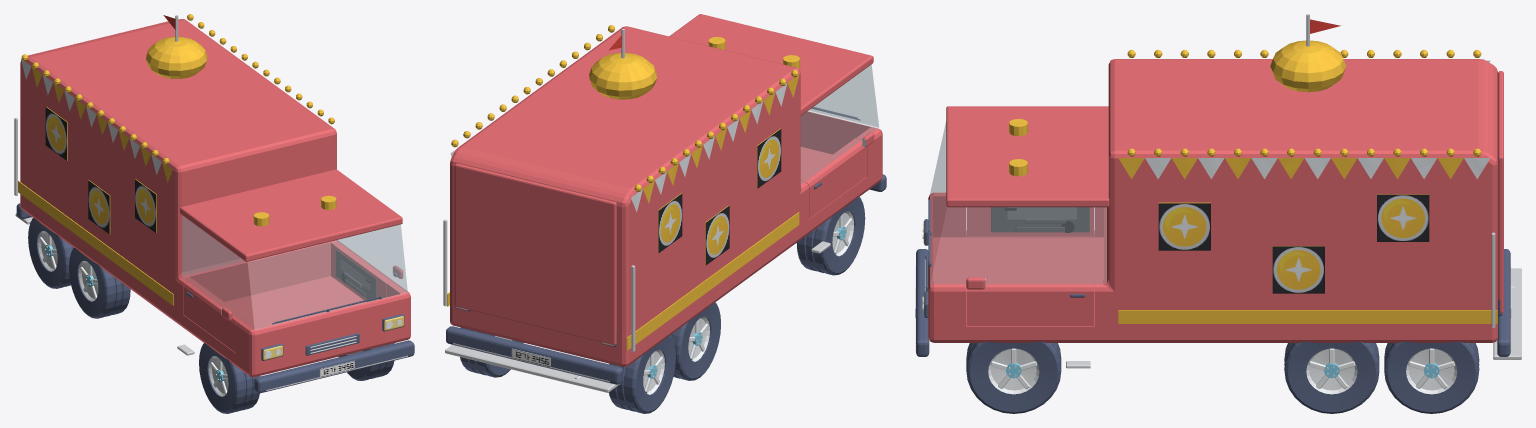
File: B02_circus_trailer_v3.glb
3 renders of one model, left to right at view 1: azimuth 30°, elevation 25°; view 2: azimuth 150°, elevation 25°; view 3: azimuth 270°, elevation 25°, orthographic. The views are drawn at different scales.
Visible parts, largest first — view 1: Body, Glass, Static, Wheel_RR, Wheel_FR, Door_R, Wheel_RR2, DoorDetail_L, Door_L, Wheel_FL; view 2: Body, Trunk, Static, Glass, Wheel_FR, Wheel_RR2, Door_R, Wheel_RR, Wheel_RL2; view 3: Body, Static, Glass, Wheel_FL, Wheel_RL, Wheel_RL2, Door_L, DoorDetail_R, Trunk, Door_R.
Boxes of the visible parts, <box> form: Body: <box>20,19,410,377</box>; Glass: <box>182,216,407,329</box>; Static: <box>14,14,414,393</box>; Wheel_RR: <box>69,248,130,318</box>; Wheel_FR: <box>199,343,260,413</box>; Door_R: <box>183,280,245,352</box>; Wheel_RR2: <box>28,218,73,288</box>; DoorDetail_L: <box>336,250,376,301</box>; Door_L: <box>334,244,394,301</box>; Wheel_FL: <box>339,343,394,380</box>; Body: <box>450,14,882,366</box>; Trunk: <box>454,163,616,345</box>; Static: <box>443,25,886,392</box>; Glass: <box>801,64,878,184</box>; Wheel_FR: <box>796,197,865,275</box>; Wheel_RR2: <box>608,335,675,413</box>; Door_R: <box>800,138,866,218</box>; Wheel_RR: <box>670,302,720,380</box>; Wheel_RL2: <box>460,327,523,377</box>; Body: <box>928,59,1497,342</box>; Static: <box>915,14,1521,368</box>; Glass: <box>930,121,1106,283</box>; Wheel_FL: <box>966,341,1061,413</box>; Wheel_RL: <box>1284,341,1379,413</box>; Wheel_RL2: <box>1384,341,1479,413</box>; Door_L: <box>967,280,1093,325</box>; DoorDetail_R: <box>991,207,1089,232</box>; Trunk: <box>1498,71,1503,313</box>; Door_R: <box>967,207,1093,235</box>.
Size of what is drawn, in the model's own units: 2.64 by 4.1 by 6.39.
3 materials, 1 textured.
